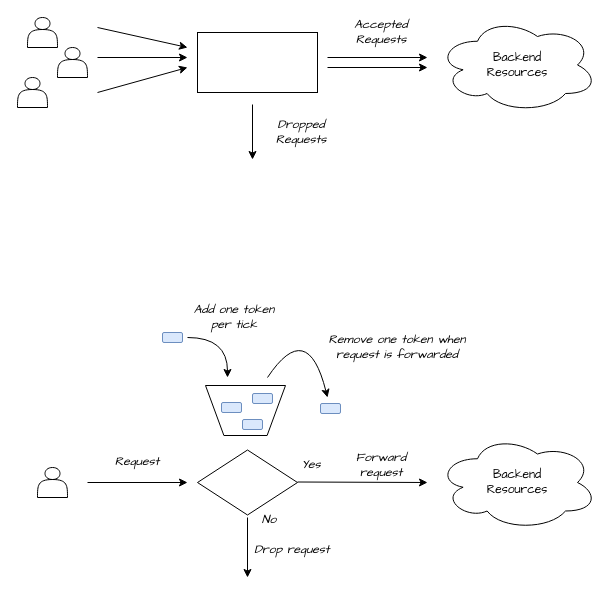
Image size: 615x603. Some labels were removed from this diagram. Here are the shapes that lost their labels. From the top down, the centre of each, then its label:
point 257,62: Rate Limiter
point 247,482: Bucket has token?
